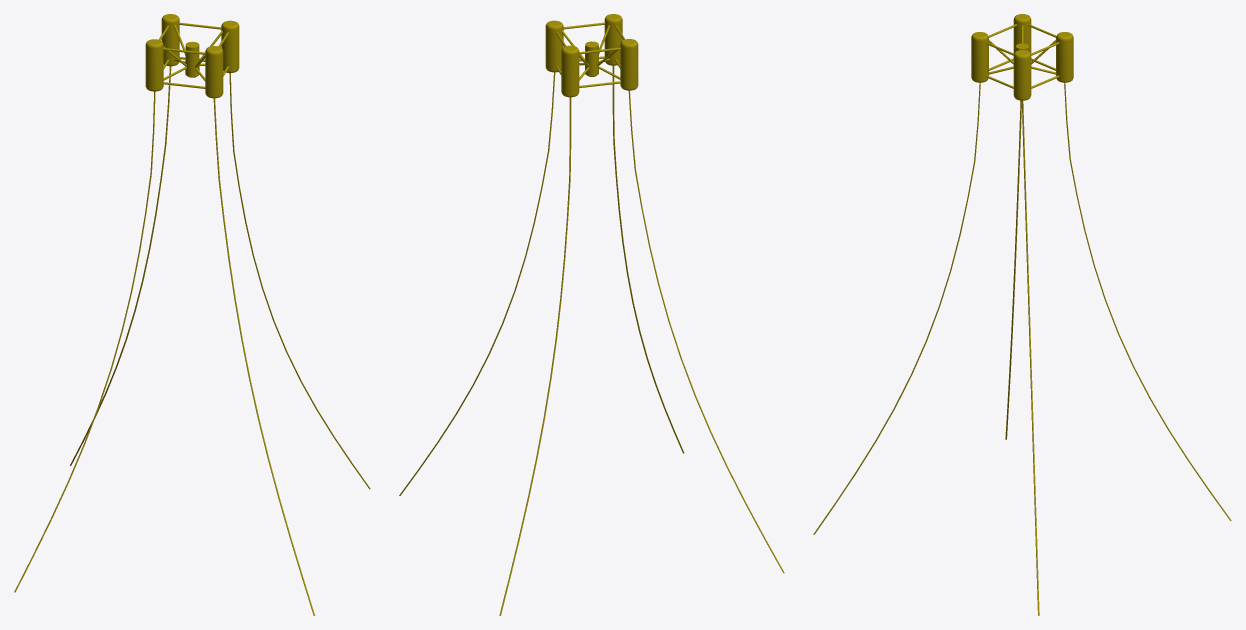
The model's file is foundation_base_semisubmersible_GEO.fbx.
3 renders of one model, left to right at view 1: azimuth 30°, elevation 25°; view 2: azimuth 150°, elevation 25°; view 3: azimuth 270°, elevation 25°, orthographic. The views are drawn at different scales.
Parts seen in each view (by area): view 1: base_semisubmersible_GEO_001, base_semisubmersible_chords_GEO_001; view 2: base_semisubmersible_GEO_001, base_semisubmersible_chords_GEO_001; view 3: base_semisubmersible_GEO_001, base_semisubmersible_chords_GEO_001.
Boxes of the visible parts, x1,y1,x2,y2 form: base_semisubmersible_GEO_001: (145,14,239,98); base_semisubmersible_chords_GEO_001: (14,66,370,615); base_semisubmersible_GEO_001: (545,14,638,97); base_semisubmersible_chords_GEO_001: (399,65,784,615); base_semisubmersible_GEO_001: (971,14,1073,100); base_semisubmersible_chords_GEO_001: (813,82,1231,615).
Size of the model in its own units: 20830 by 27077 by 20830.
